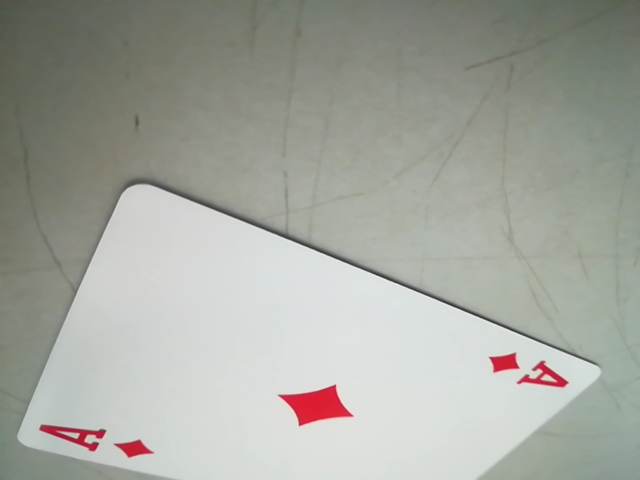fk a: (27, 418, 169, 460), (484, 345, 578, 399)
